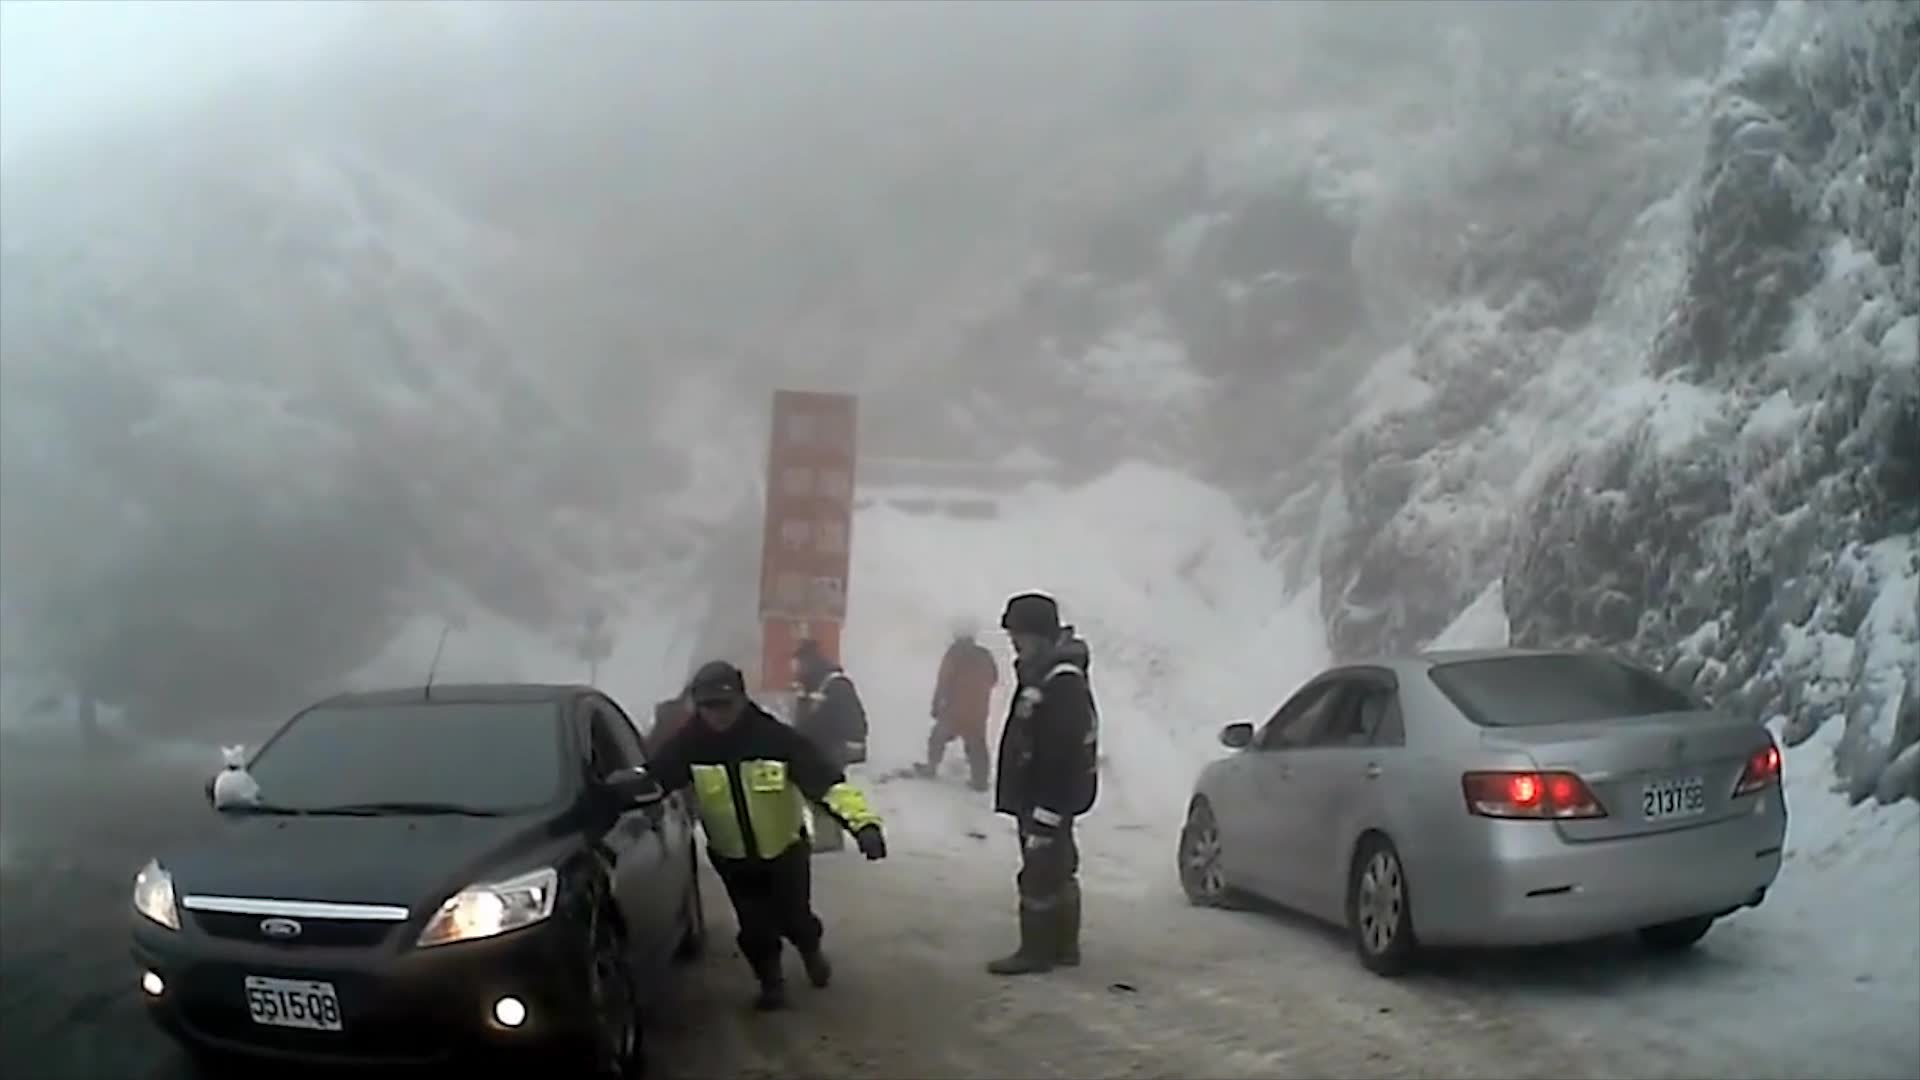pedestrian: (633, 657, 899, 1010), (984, 589, 1100, 980), (786, 638, 871, 857), (925, 608, 1000, 794)
vehicle: (128, 679, 709, 1080), (1171, 643, 1790, 976)
